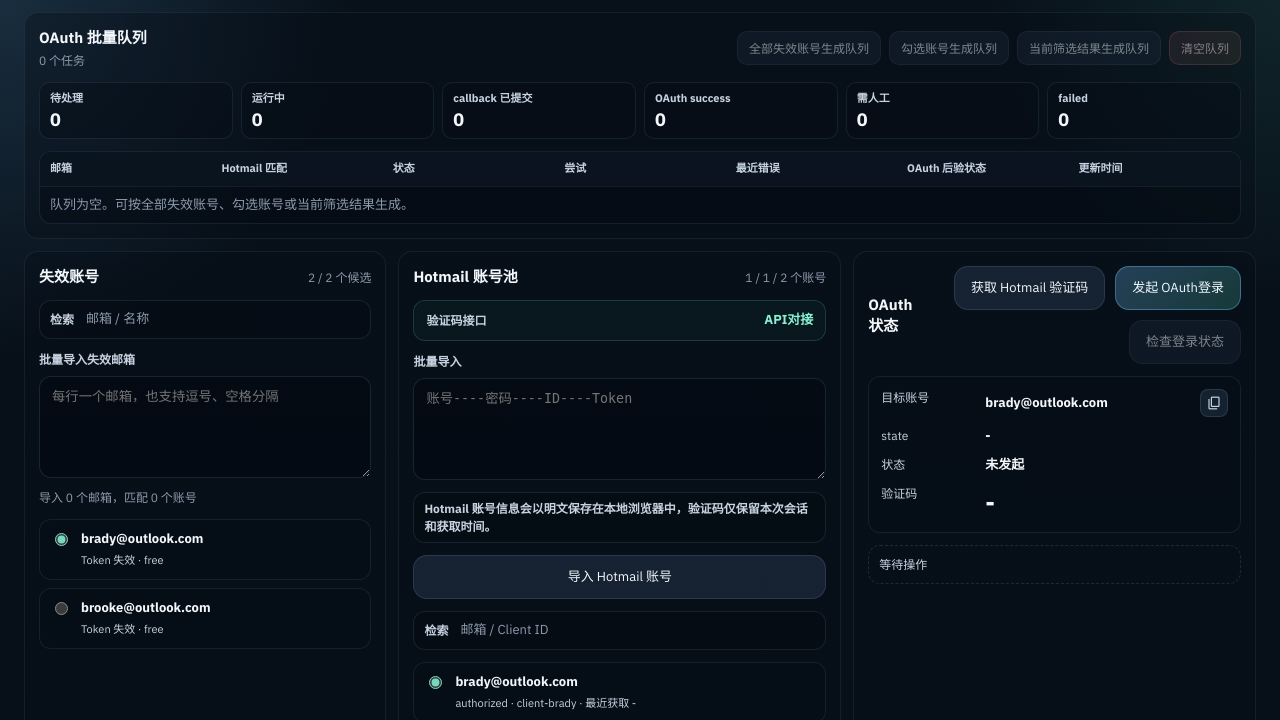
Scenario: CodexOAuthPanel › links the invalid account, matching Hotmail account, and OAuth status when switching accounts
(page scrolled)
What coordinates should you click on to do the following:
click the button "发起 OAuth登录"
I would click on:
 (1178, 288)
Its box is [1115,266,1241,310].
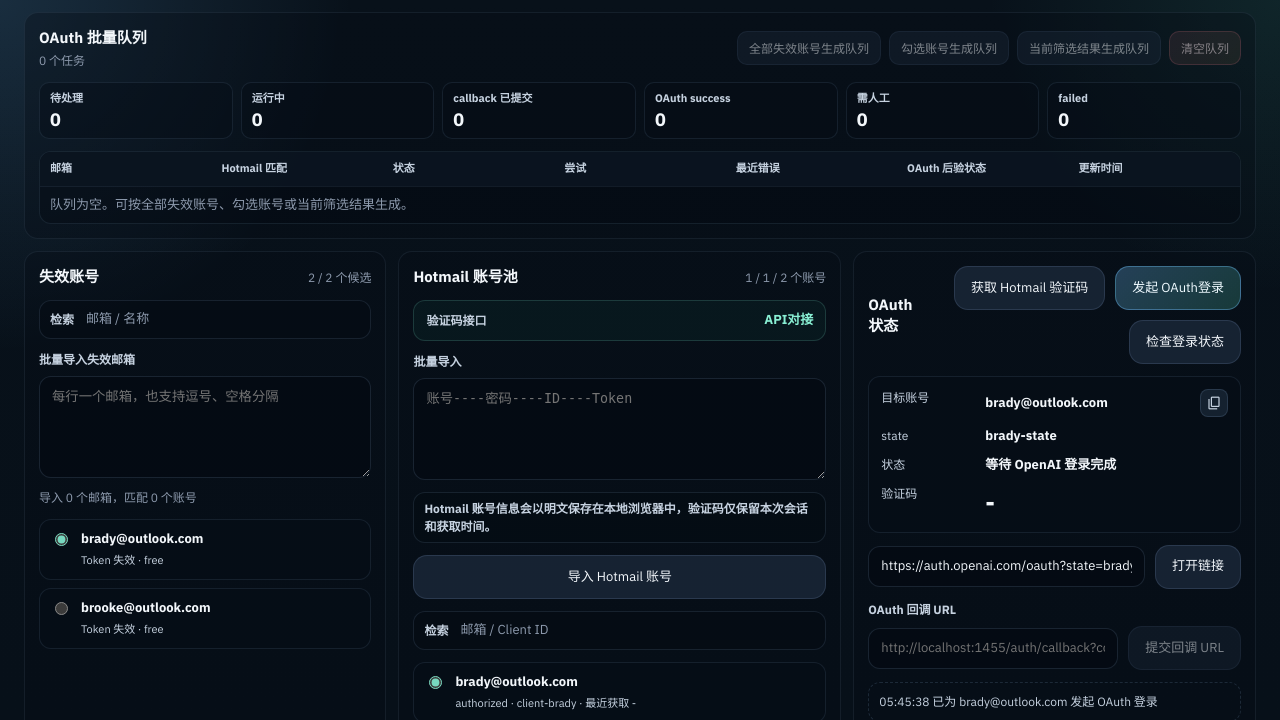
What coordinates should you click on to do the following:
click the button "获取 Hotmail 验证码"
I would click on:
 (1030, 288)
Its box is [954,266,1105,310].
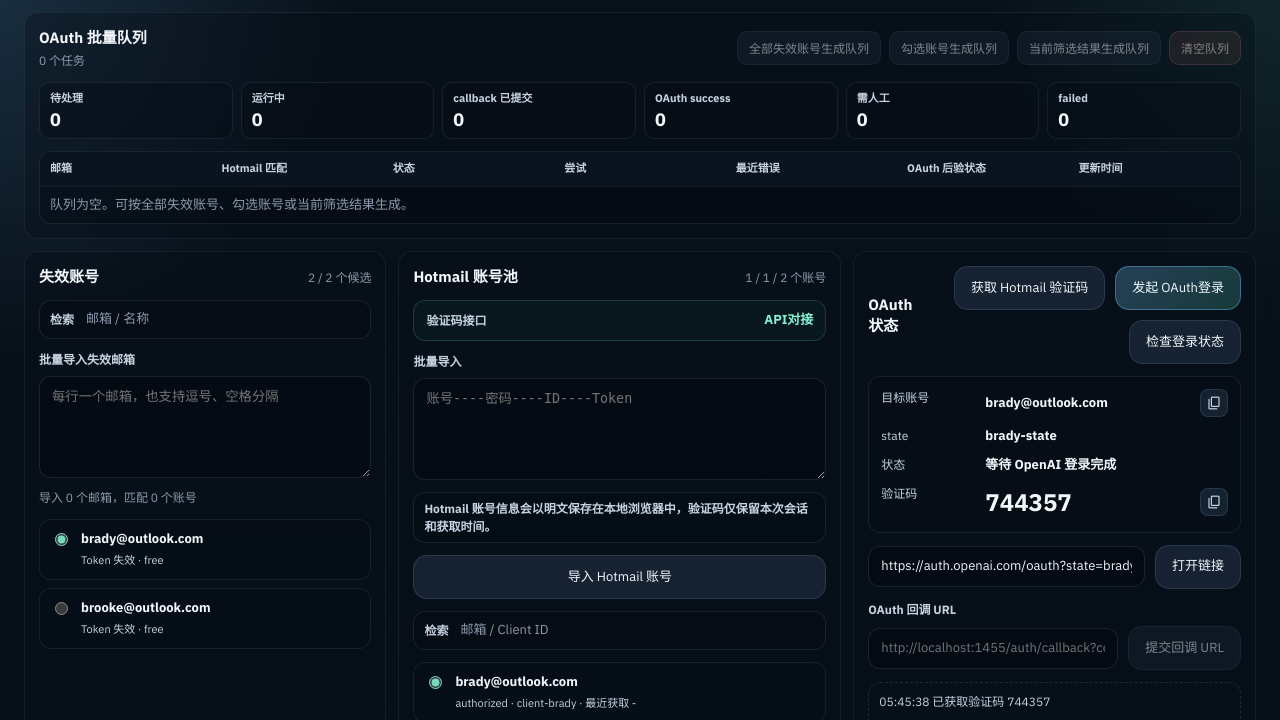
Expected: the text "brady@outlook.com" next to "目标账号" is shown, [985,394,1108,411]
Result: the text "744357" is shown at [985,486,1072,518]
What coordinates should you click on to do the following:
click the radio button labelled "brooke@outlook.com Token 失效 · free"
I would click on:
 (62, 608)
Its box is [55,602,68,615].
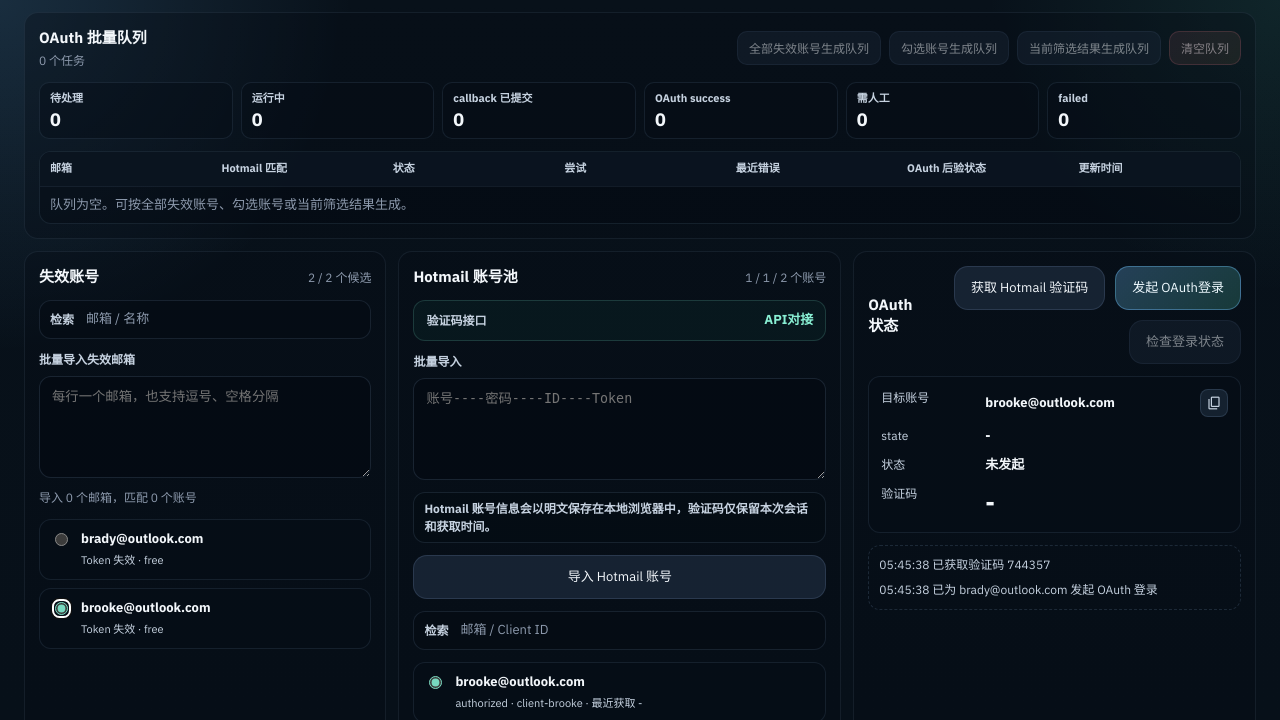
Result: the 3rd text "brooke@outlook.com" is shown at [455,673,585,690]
Result: the text "brooke@outlook.com" next to "目标账号" is shown at [985,394,1115,411]
Result: the text "未发起" is shown at [985,456,1024,473]
